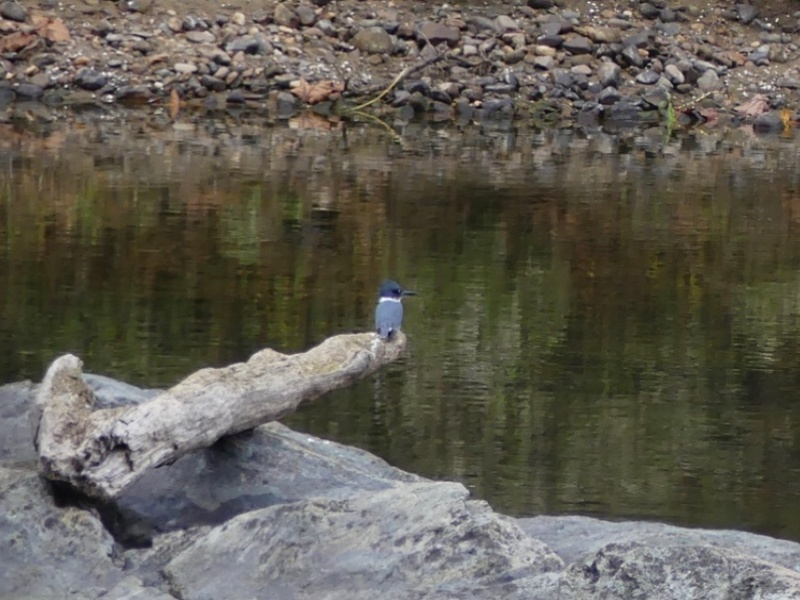kingfisher: (371, 278, 418, 344)
